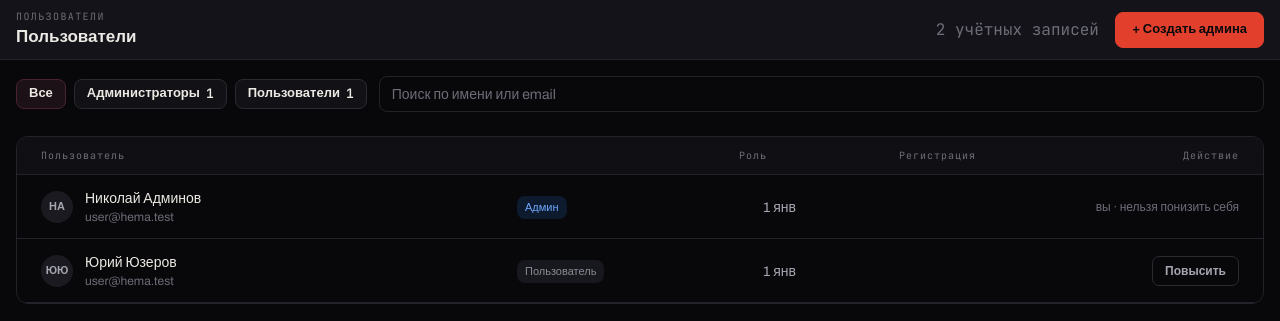
Test case: UsersScreen › filters by role (AC-4)
Click the button "Администраторы 1" at (150, 94), box [74,79,227,109]
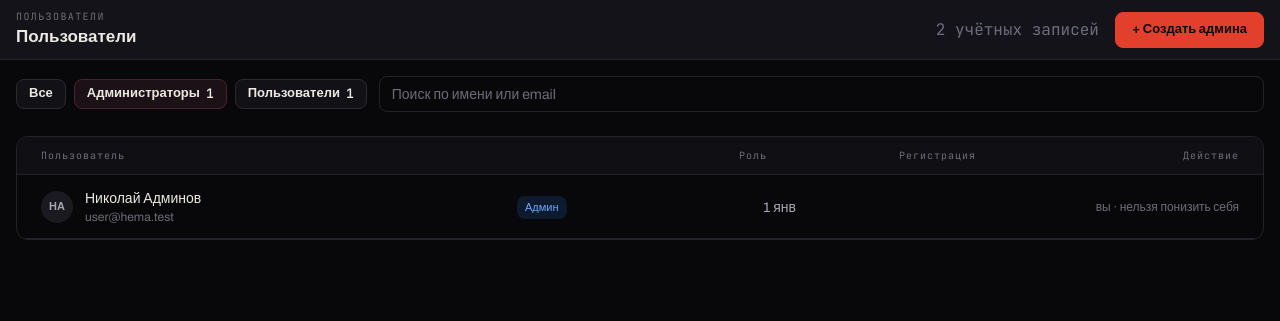
Expected: the text "Николай Админов" is shown, [85,188,201,208]
Expected: the text "Юрий Юзеров" is gone
